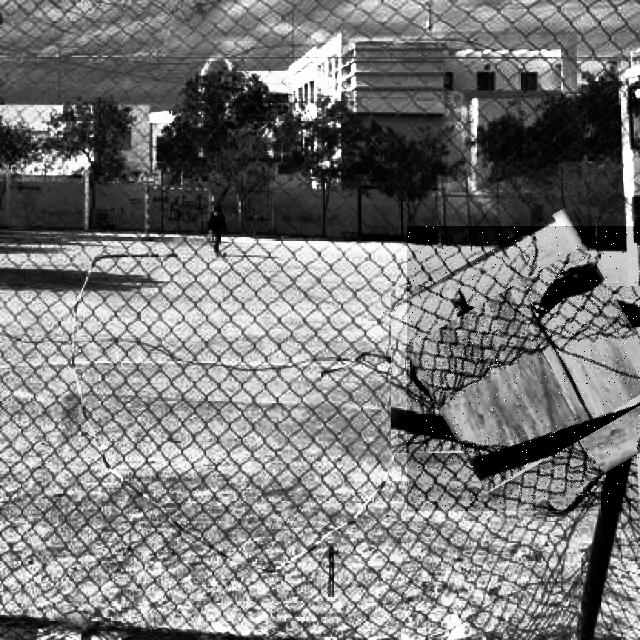anomaly-fence: (407, 226, 640, 511)
